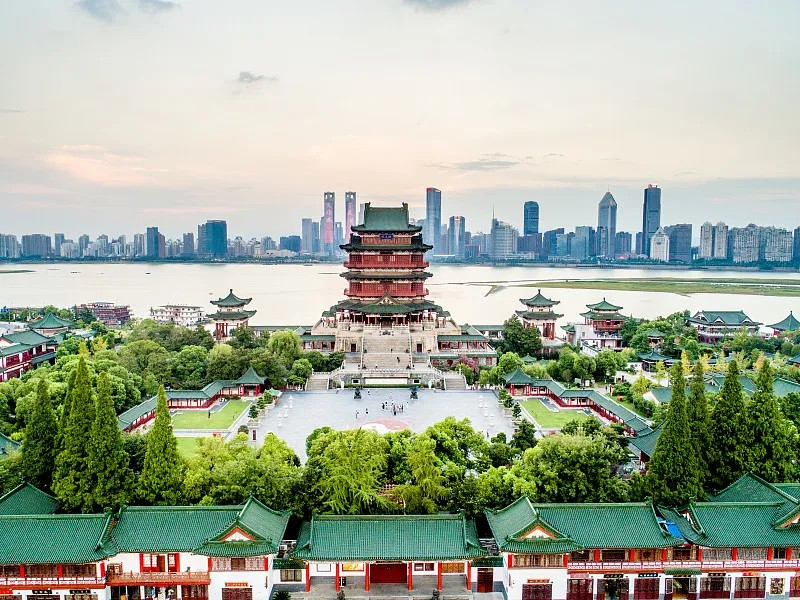Teng: (320, 203, 451, 330)
